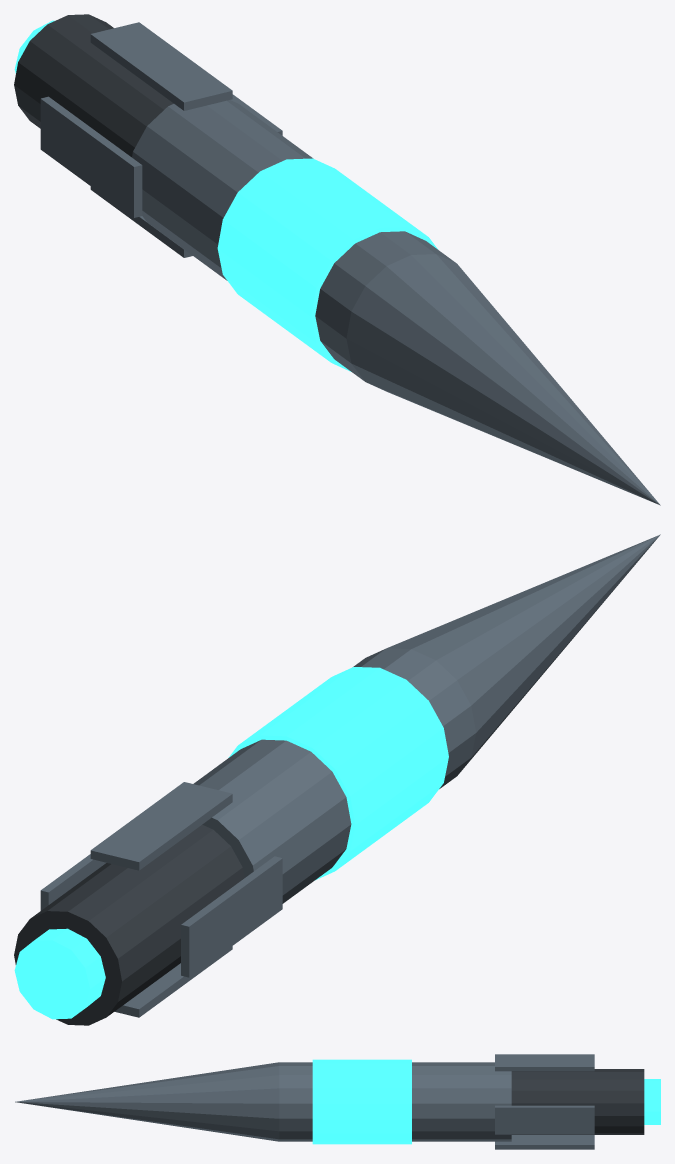
Rendered from kinetic-bullet.glb.
3 renders of one model, top to bottom at view 1: azimuth 30°, elevation 25°; view 2: azimuth 150°, elevation 25°; view 3: azimuth 270°, elevation 25°, orthographic. The views are drawn at different scales.
Parts seen in each view (by area): view 1: PenetratorTip, SabotBody, PlasmaRing, TracerAperture, Fin_2, Fin_1; view 2: SabotBody, PlasmaRing, TracerAperture, PenetratorTip, TracerBulb, Fin_2, Fin_1, Fin_3, Fin_0; view 3: PenetratorTip, SabotBody, PlasmaRing, TracerAperture, Fin_0, Fin_1, Fin_3, TracerBulb.
Part boxes in pixels (bbox=[...]): PenetratorTip: bbox=[346, 254, 660, 505]; SabotBody: bbox=[132, 100, 456, 381]; PlasmaRing: bbox=[217, 158, 437, 371]; TracerAperture: bbox=[14, 14, 173, 157]; Fin_2: bbox=[40, 96, 142, 217]; Fin_1: bbox=[90, 22, 232, 110]; SabotBody: bbox=[193, 648, 475, 903]; PlasmaRing: bbox=[228, 667, 448, 880]; TracerAperture: bbox=[14, 824, 244, 1025]; PenetratorTip: bbox=[387, 534, 660, 773]; TracerBulb: bbox=[14, 928, 105, 1019]; Fin_2: bbox=[181, 856, 282, 977]; Fin_1: bbox=[90, 782, 232, 870]; Fin_3: bbox=[114, 946, 232, 1017]; Fin_0: bbox=[40, 854, 106, 910]; PenetratorTip: bbox=[15, 1062, 279, 1141]; SabotBody: bbox=[279, 1062, 511, 1141]; PlasmaRing: bbox=[312, 1059, 411, 1144]; TracerAperture: bbox=[511, 1069, 644, 1134]; Fin_0: bbox=[495, 1105, 594, 1134]; Fin_1: bbox=[495, 1054, 594, 1071]; Fin_3: bbox=[495, 1135, 594, 1149]; TracerBulb: bbox=[644, 1079, 660, 1124].
Size of the model in its own units: 0.055 by 0.055 by 0.39.
